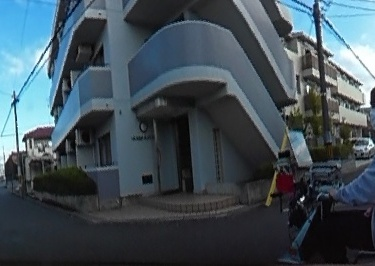person: (304, 78, 375, 265)
